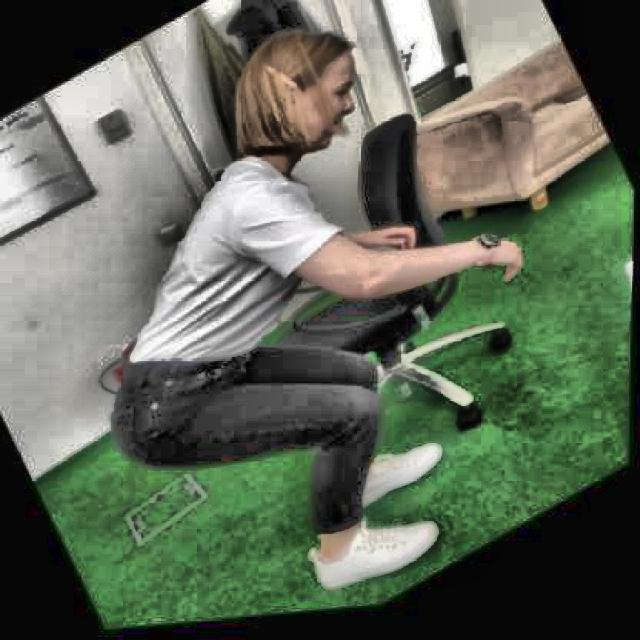cadeira: (162, 83, 568, 542)
